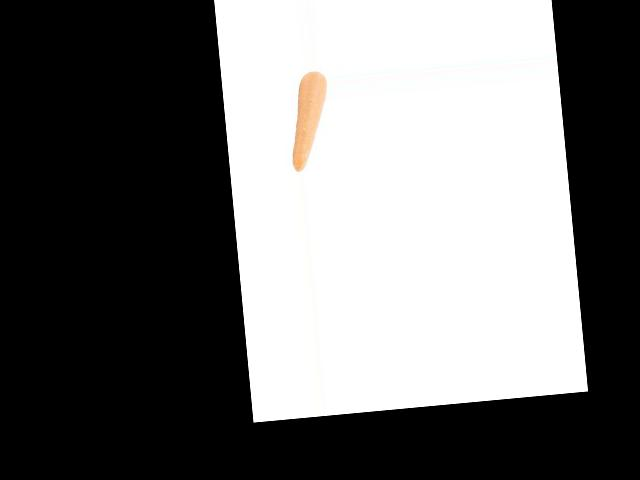carrot: (284, 71, 334, 172)
